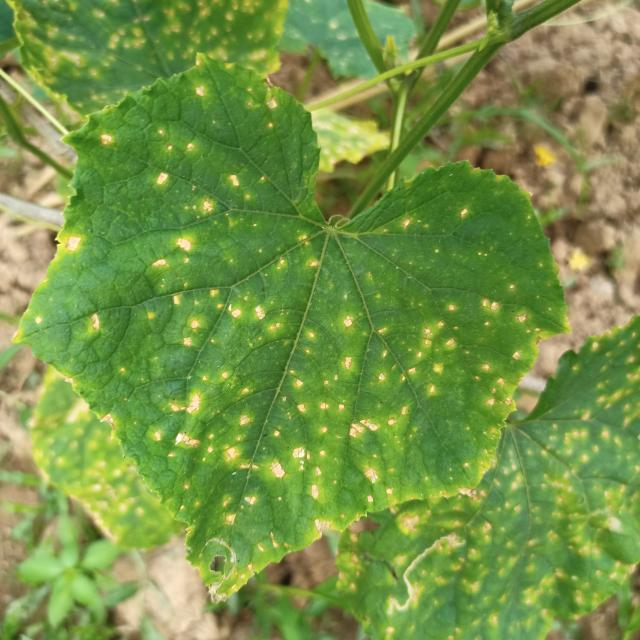disease_cucumber: (39, 276, 542, 557), (94, 78, 322, 276), (397, 202, 472, 254), (58, 228, 96, 261)
